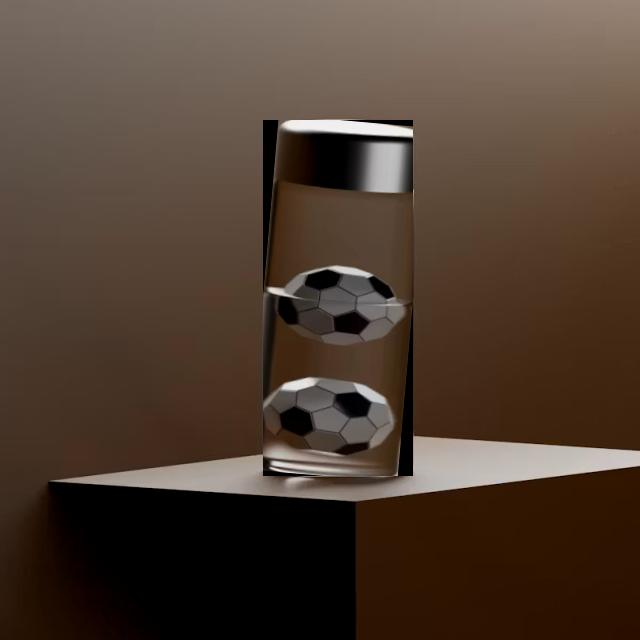Bottle: (263, 120, 411, 475)
